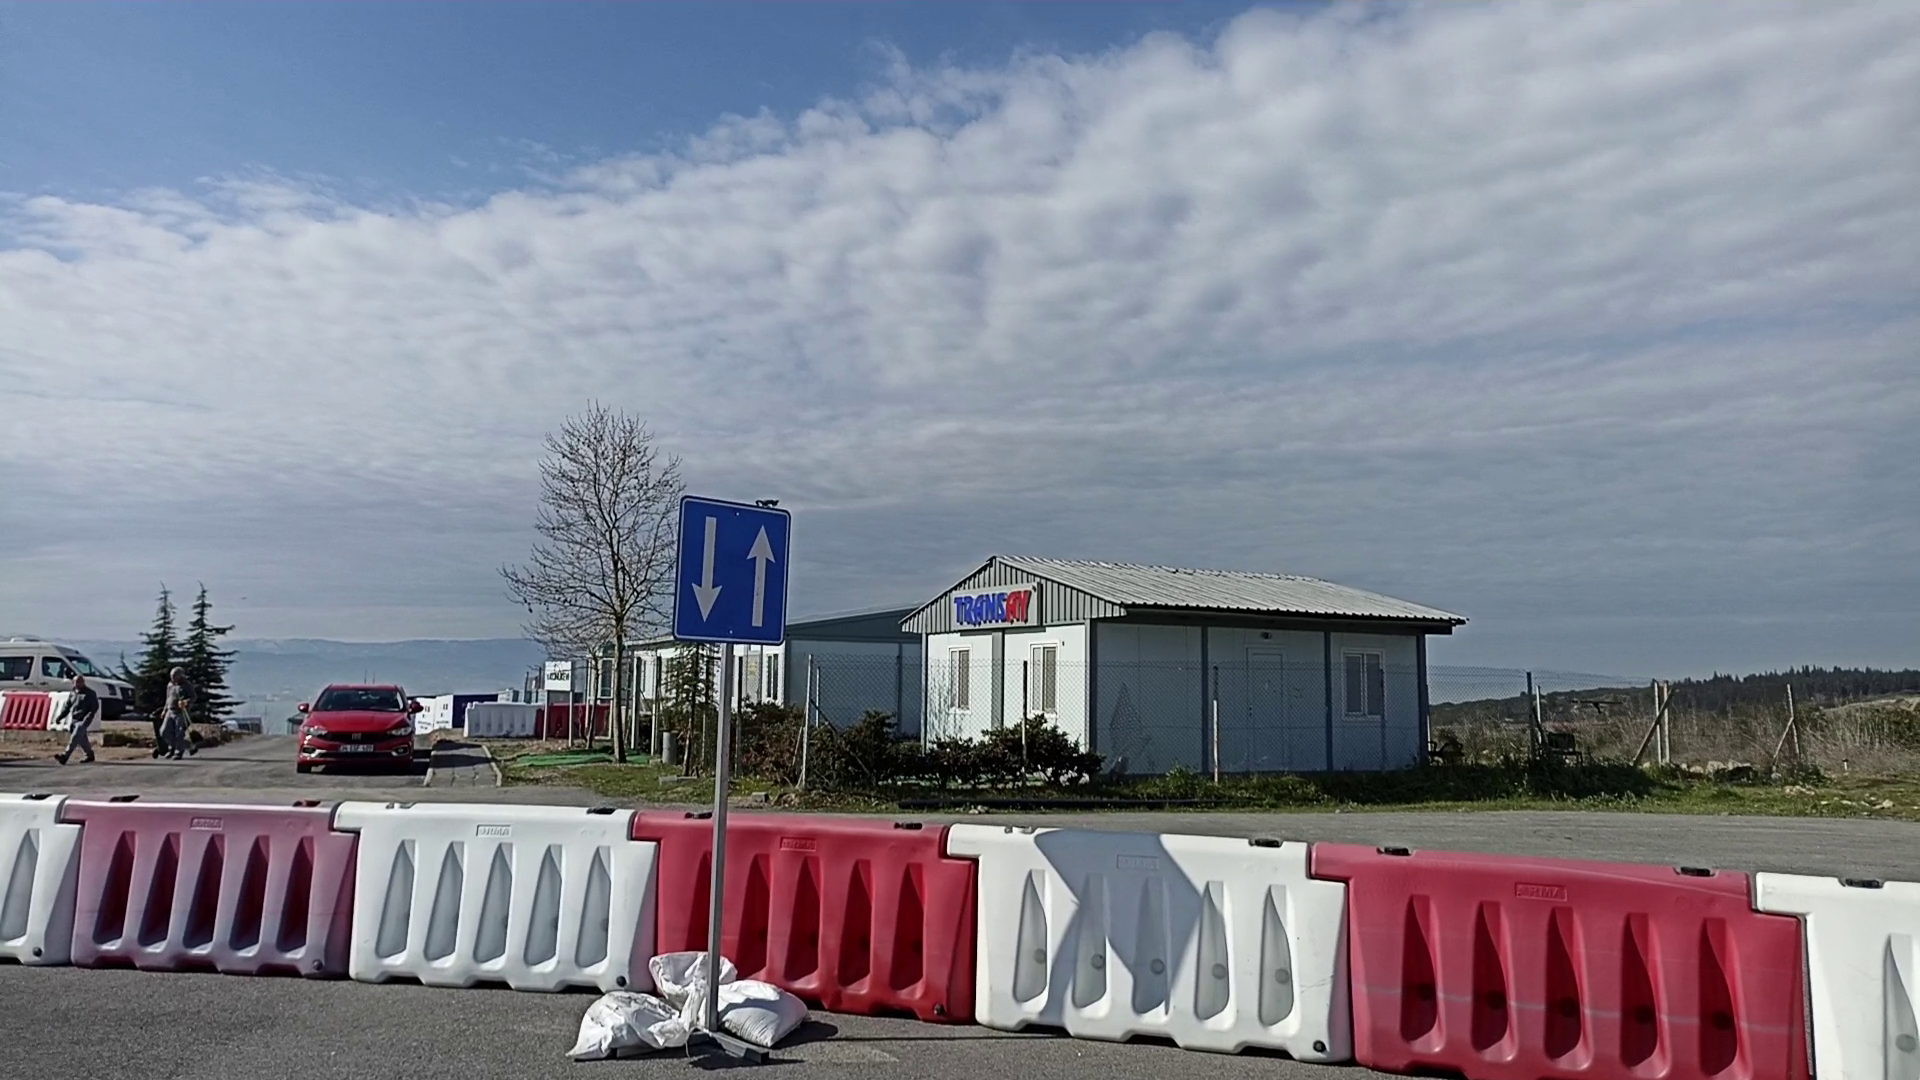oneway: (669, 492, 796, 650)
